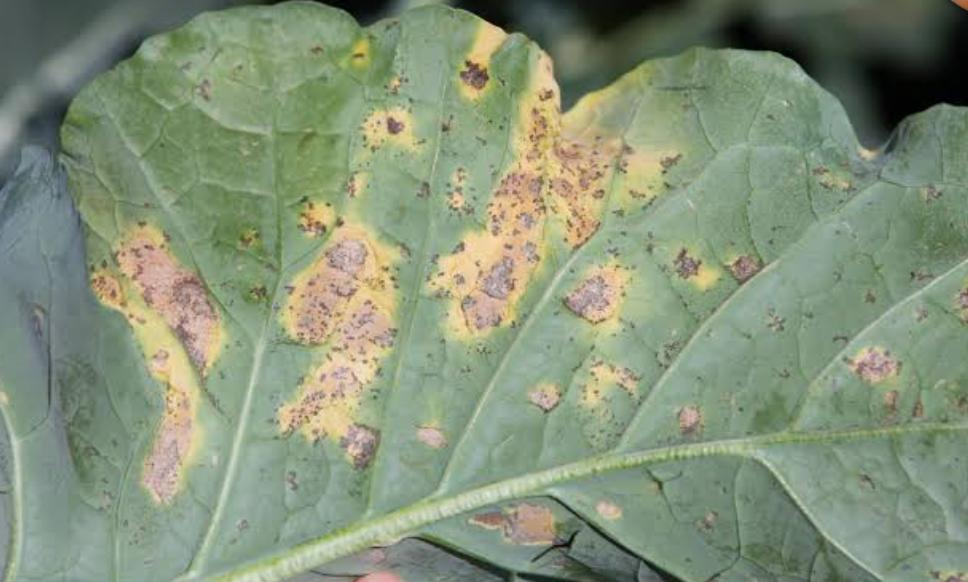Bok-Choy-Diseased: (45, 67, 891, 582)
